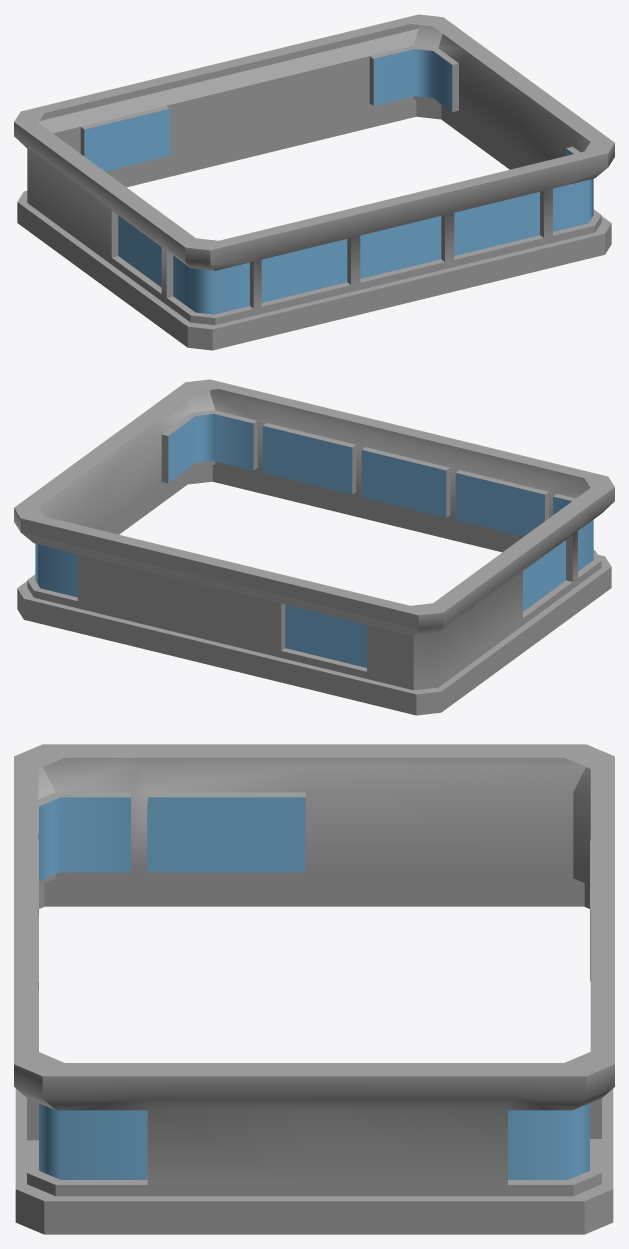
The model's file is Floor_1.fbx.
3 views of the same model, one above another, from view 1: azimuth 30°, elevation 25°; view 2: azimuth 150°, elevation 25°; view 3: azimuth 270°, elevation 25° (orthographic). The views are drawn at different scales.
Visible parts, largest first — view 1: Floor_1, Windows; view 2: Floor_1, Windows; view 3: Floor_1, Windows.
Part boxes in pixels (left/top/right/bottom): Floor_1: left=14, top=14, right=614, bottom=350; Windows: left=84, top=49, right=593, bottom=314; Floor_1: left=14, top=379, right=614, bottom=715; Windows: left=35, top=414, right=593, bottom=667; Floor_1: left=14, top=744, right=614, bottom=1234; Windows: left=39, top=797, right=589, bottom=1179.
Size of the model in its own units: 1776 by 400 by 1358.
